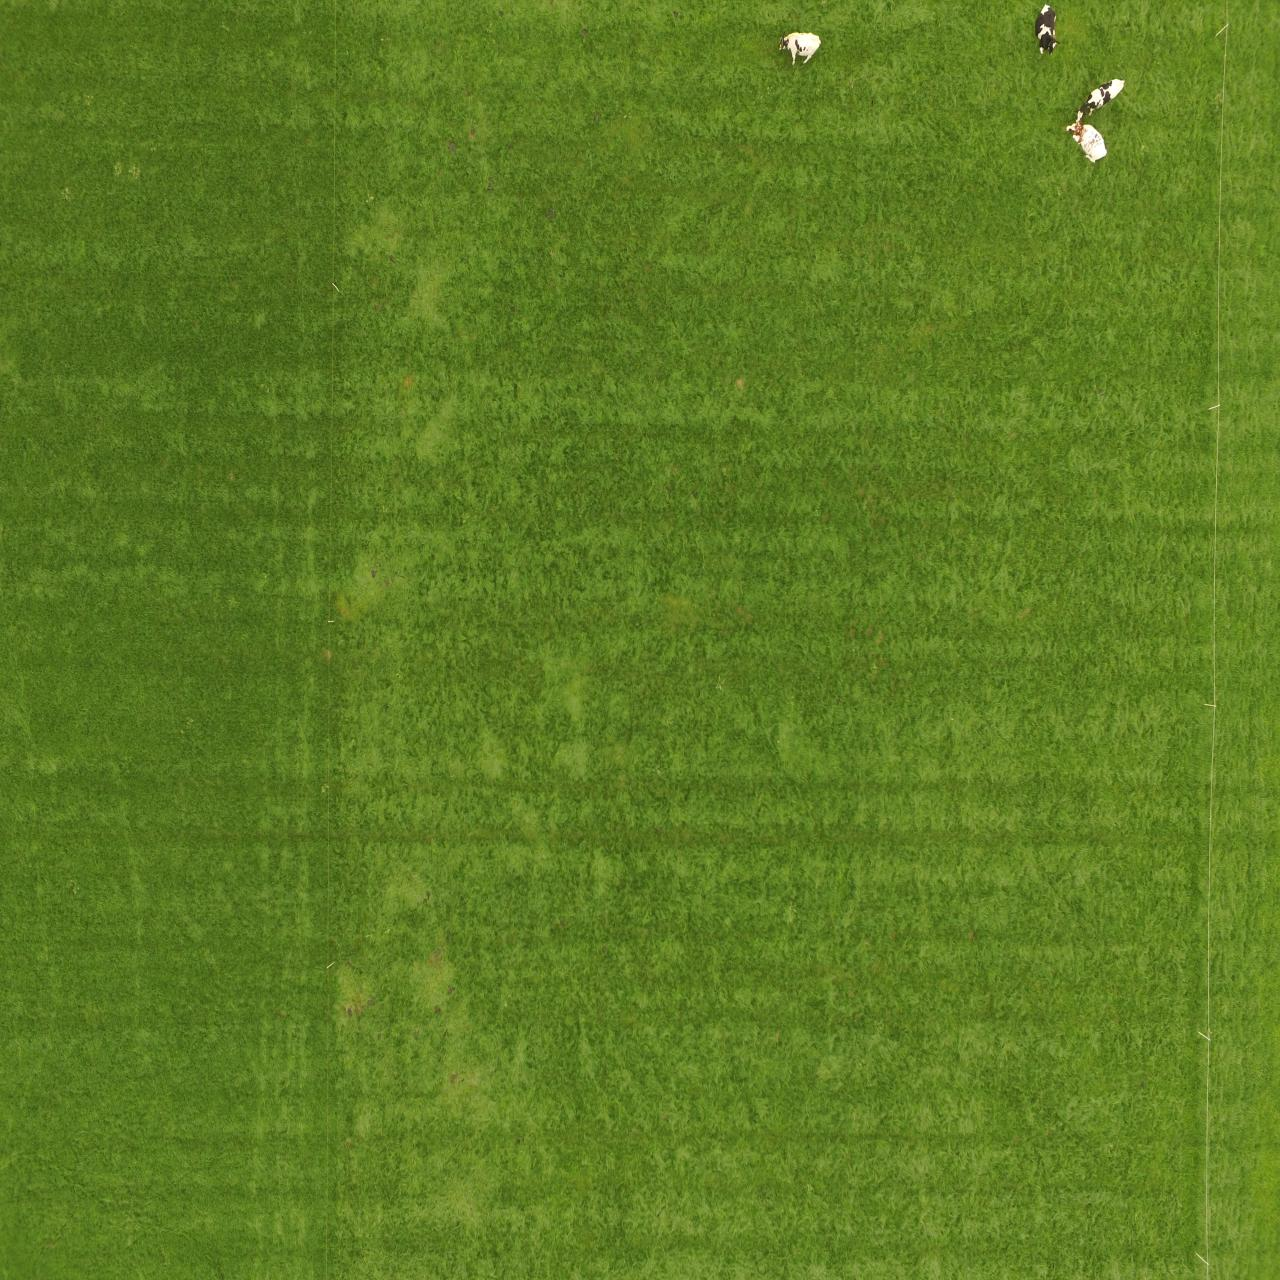cow: (1061, 110, 1108, 159), (772, 29, 826, 70), (1080, 77, 1126, 113), (1035, 1, 1057, 57)
